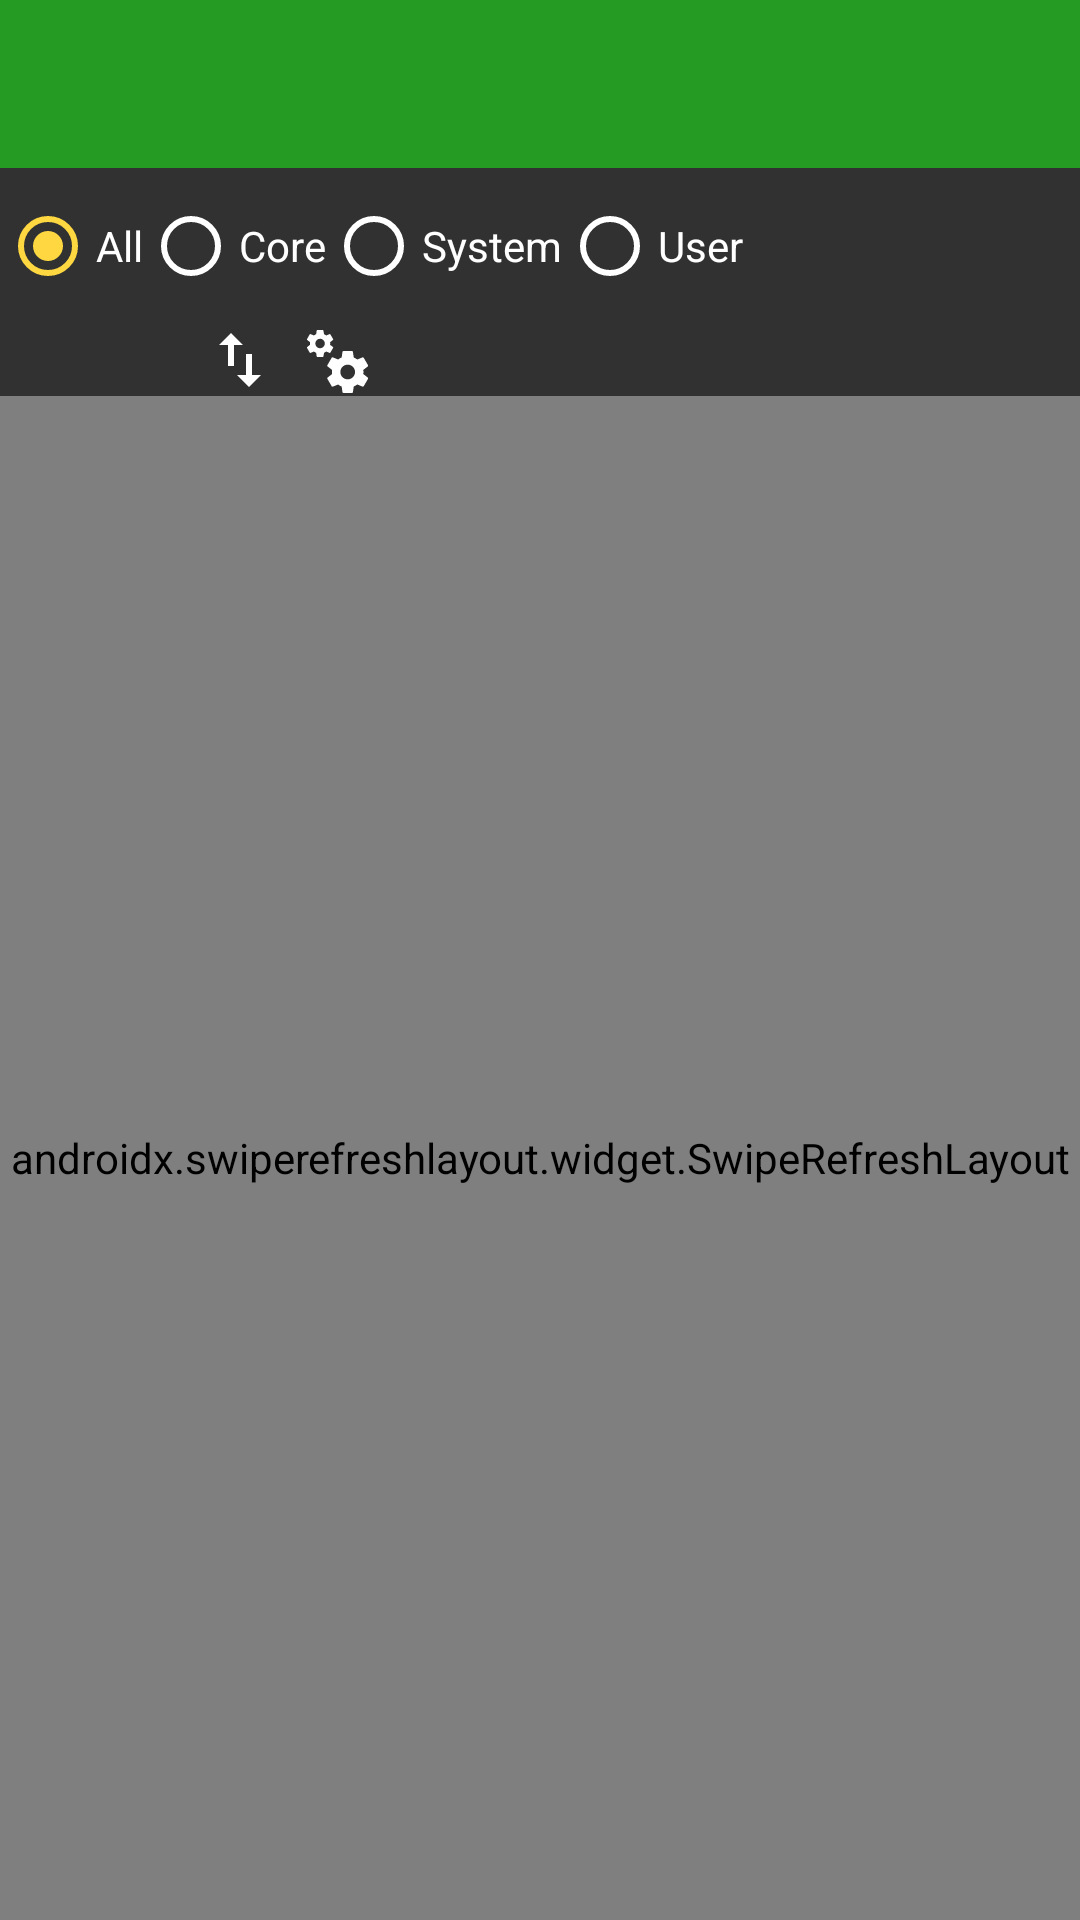

Icons on this 1080*1920 Android screen, each with the point to tap as point (x, y):
Actions: point (337, 361)
Data: point (240, 360)
